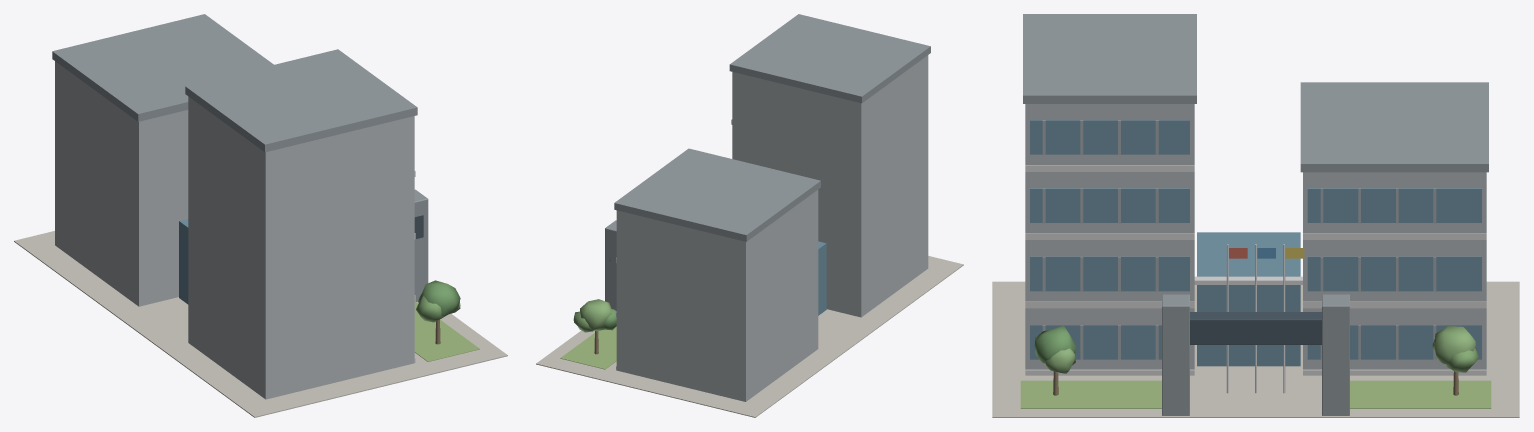
File: lm_kampus.glb
The picture shows the model from 3 angles, left to right: view 1: azimuth 30°, elevation 25°; view 2: azimuth 150°, elevation 25°; view 3: azimuth 270°, elevation 25°; orthographic projection. The views are drawn at different scales.
Visible parts, largest first — view 1: main; view 2: main; view 3: main.
Boxes of the visible parts, left/top/right/bottom form: main: left=14, top=14, right=507, bottom=417; main: left=536, top=14, right=963, bottom=417; main: left=992, top=14, right=1519, bottom=417.
Size of the model in its own units: 13.6 by 13.2 by 22.4.
